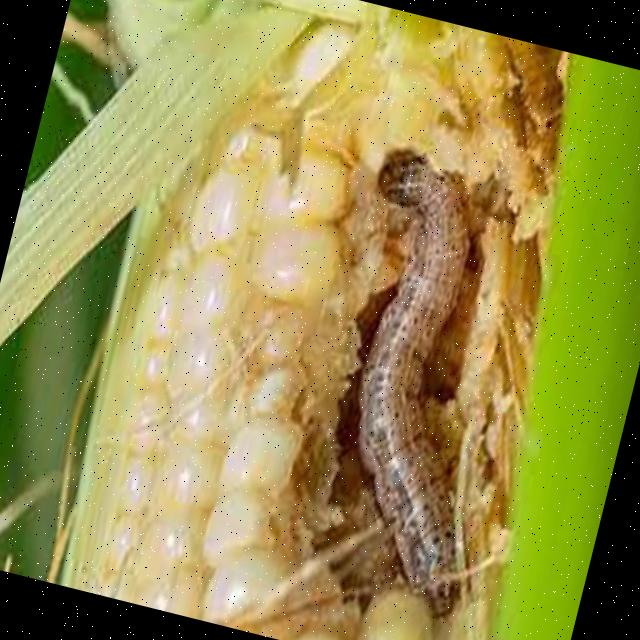worm: (280, 140, 561, 612)
